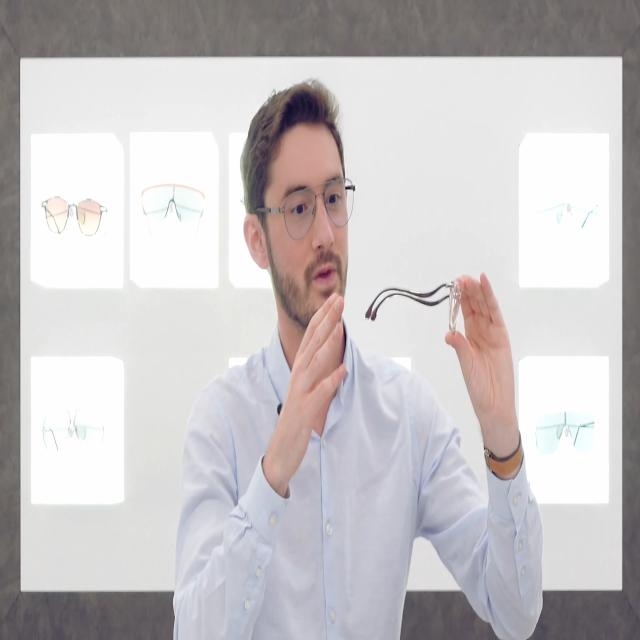dress: (174, 326, 544, 640)
glasses: (281, 175, 355, 240), (442, 278, 467, 330)
